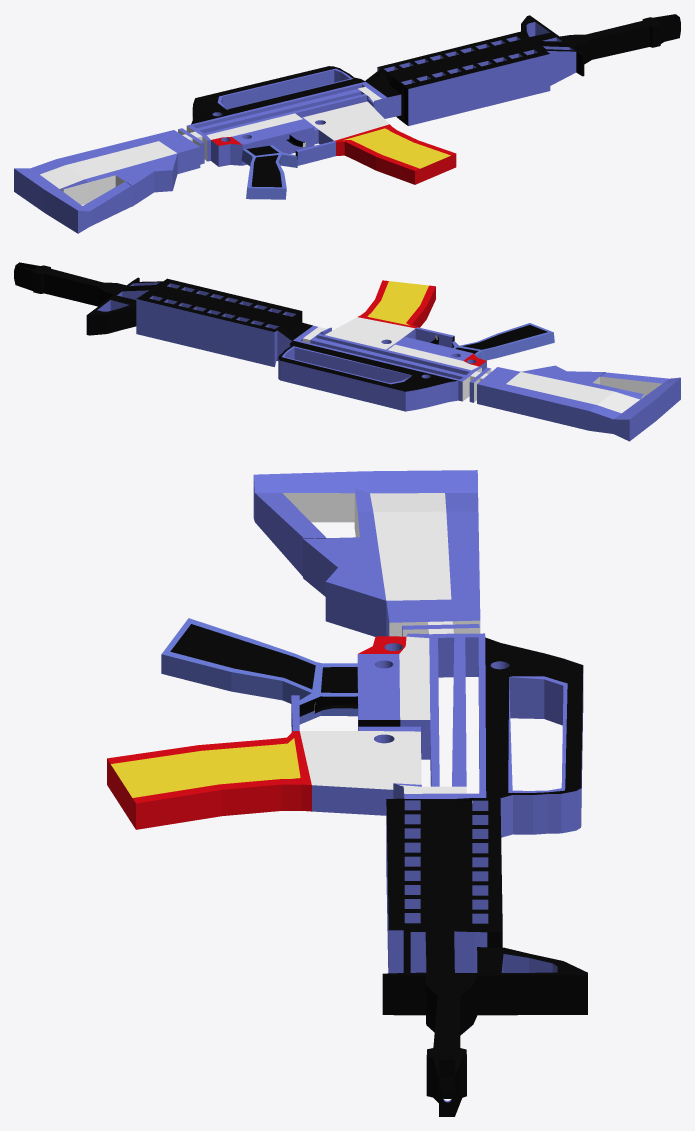
3 renders of one model, top to bottom at view 1: azimuth 30°, elevation 25°; view 2: azimuth 150°, elevation 25°; view 3: azimuth 270°, elevation 25°, orthographic. The views are drawn at different scales.
Visible parts, largest first — view 1: Cube; view 2: Cube; view 3: Cube.
Part boxes in pixels (x1,y1,x2,y2): Cube: [14, 14, 680, 233]; Cube: [14, 262, 680, 441]; Cube: [107, 470, 587, 1116].
Bounding box in the file's own units: 423 × 22.86 × 142.
